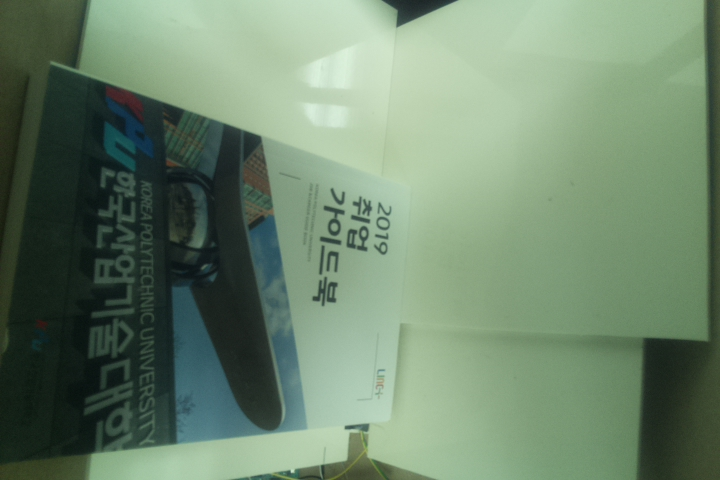book: (1, 60, 413, 463)
